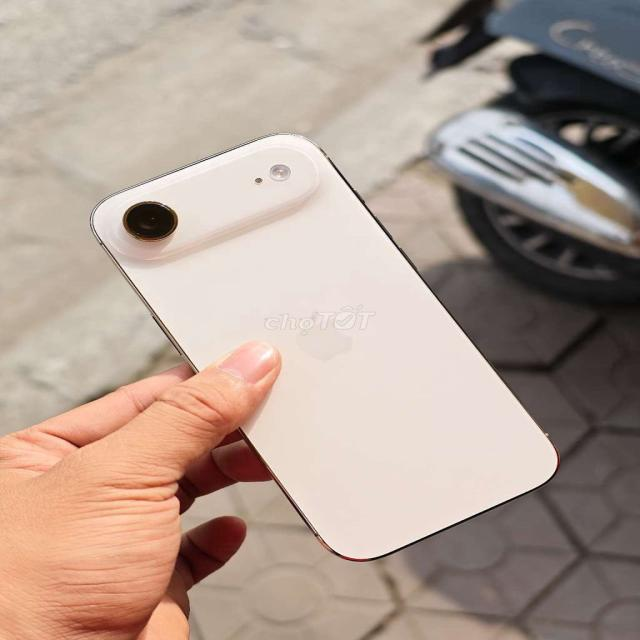gen_17: (89, 121, 576, 549)
